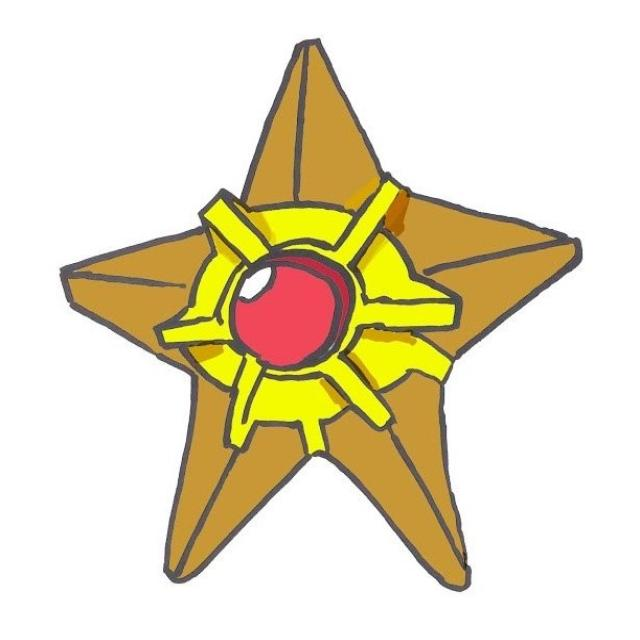Staryu: (62, 34, 585, 590)
